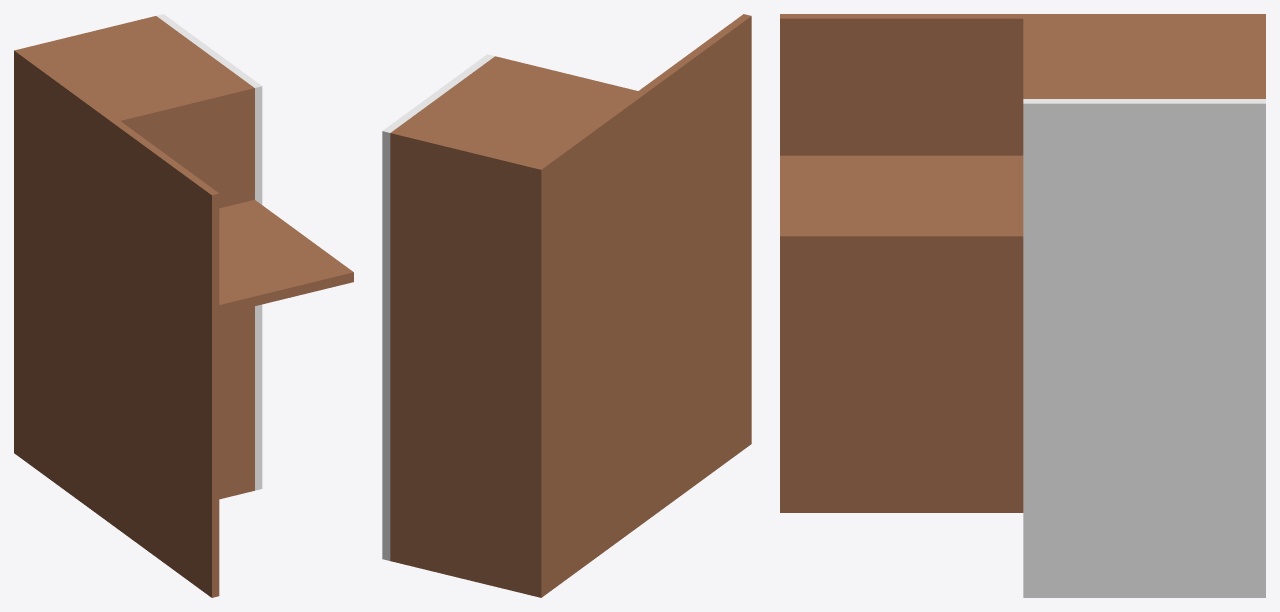
File: furniture.fbx
The picture shows the model from 3 angles, left to right: view 1: azimuth 30°, elevation 25°; view 2: azimuth 150°, elevation 25°; view 3: azimuth 270°, elevation 25°; orthographic projection. The views are drawn at different scales.
Parts seen in each view (by area): view 1: Cube.001; view 2: Cube.001; view 3: Cube.001.
Part boxes in pixels (box(x1,y1,x2,y2)): Cube.001: box(14, 14, 353, 597); Cube.001: box(382, 14, 751, 597); Cube.001: box(780, 14, 1265, 597).
Bounding box in the file's own units: 35 × 90 × 80.15.
